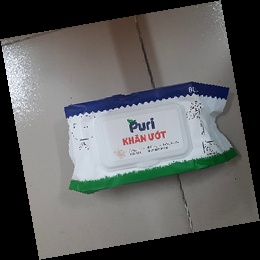Puri Trang: (62, 80, 240, 192)
